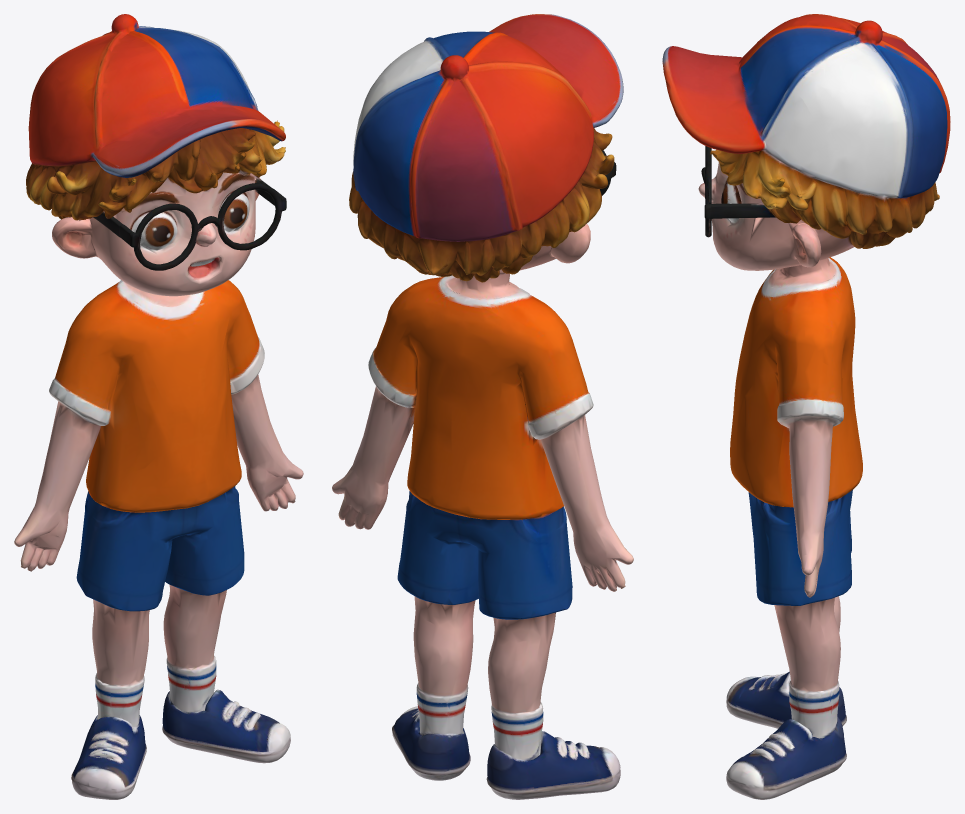
File: menino-30k.glb
3 renders of one model, left to right at view 1: azimuth 30°, elevation 25°; view 2: azimuth 150°, elevation 25°; view 3: azimuth 270°, elevation 25°, orthographic. The views are drawn at different scales.
Parts seen in each view (by area): view 1: corpo; view 2: corpo; view 3: corpo.
Boxes of the visible parts, x1,y1,x2,y2 form: corpo: [14, 14, 303, 799]; corpo: [332, 14, 633, 799]; corpo: [662, 14, 950, 799].
Bounding box in the file's own units: 0.4114 × 0.979 × 0.3514.
1 material, 1 textured.
